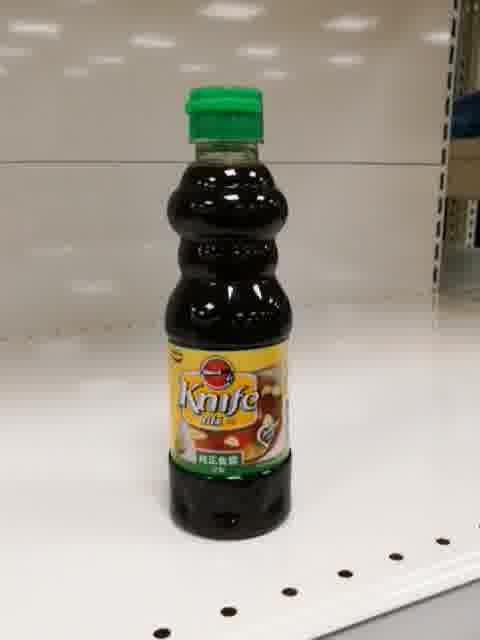cookingoil: (161, 83, 297, 543)
